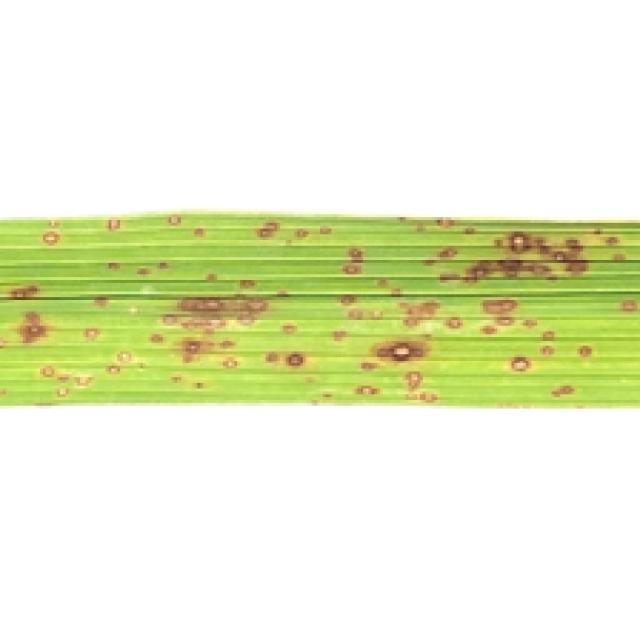Rice___Brown_Spot: (0, 212, 637, 409)
